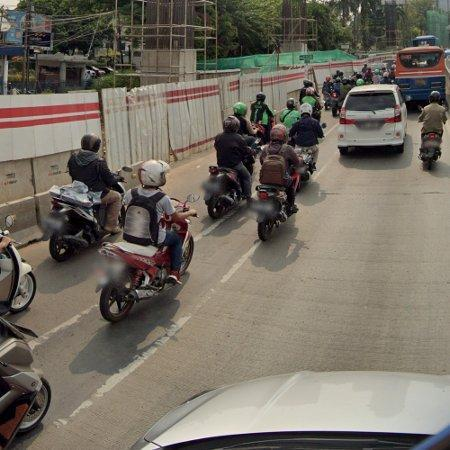motorcycles: (0, 318, 51, 450), (97, 241, 169, 323), (42, 181, 105, 262), (0, 246, 36, 315), (203, 166, 245, 219), (254, 184, 288, 240), (162, 219, 194, 274)
